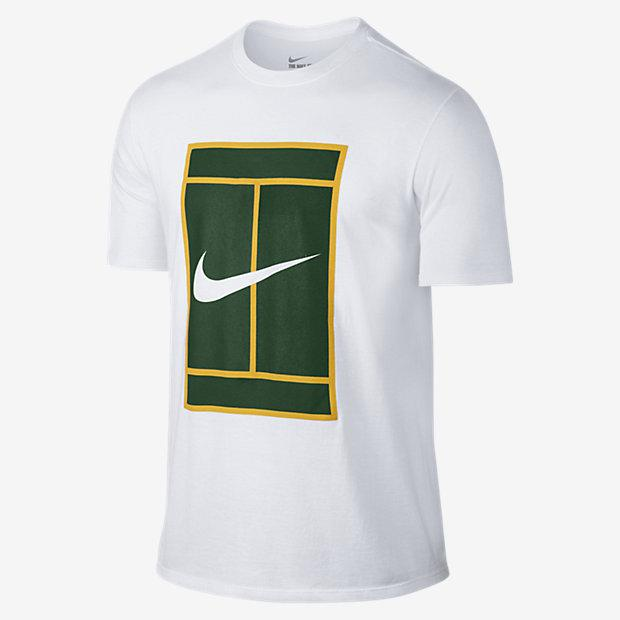teeshirt: (93, 7, 517, 620)
